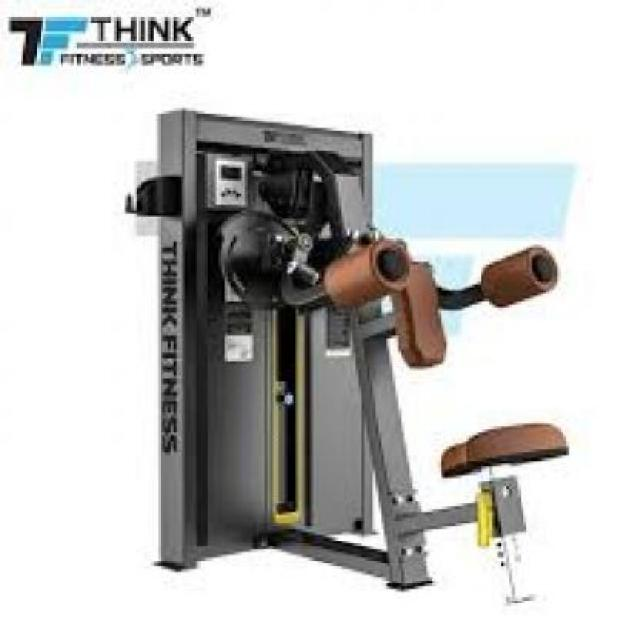lateral raises machine: (157, 109, 574, 606)
